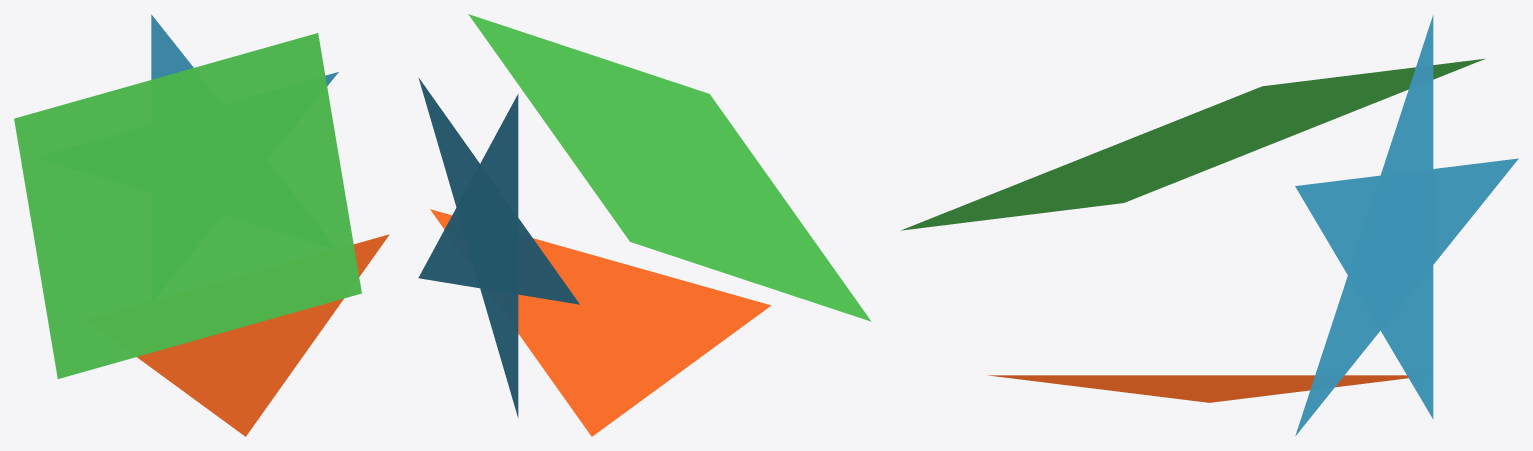
Rendered from UniformGreatRhombicosidodecahedronF.obj.
3 views of the same model, side by side, from view 1: azimuth 30°, elevation 25°; view 2: azimuth 150°, elevation 25°; view 3: azimuth 270°, elevation 25° (orthographic). The views are drawn at different scales.
Bounding box in the file's own units: 1.31 × 1 × 1.38.
